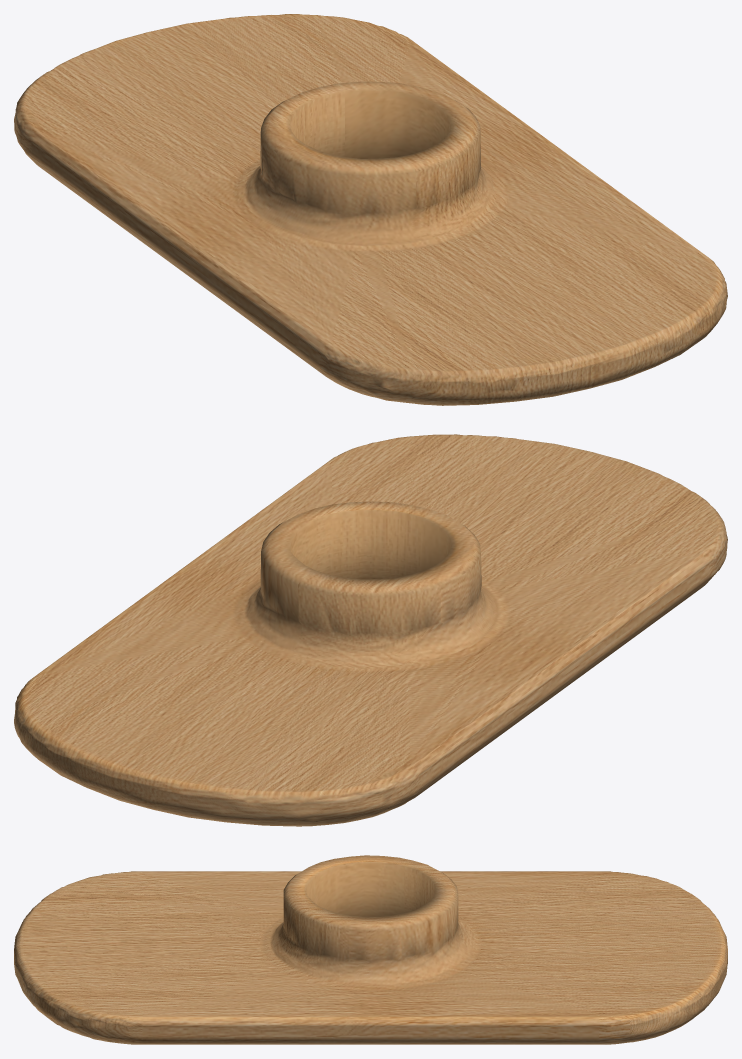
The model's file is wooden_stand.glb.
3 renders of one model, top to bottom at view 1: azimuth 30°, elevation 25°; view 2: azimuth 150°, elevation 25°; view 3: azimuth 270°, elevation 25°, orthographic. The views are drawn at different scales.
Visible parts, largest first — view 1: tripo_node_16930d79-235a-4300-9e32-a311d871c2ca; view 2: tripo_node_16930d79-235a-4300-9e32-a311d871c2ca; view 3: tripo_node_16930d79-235a-4300-9e32-a311d871c2ca.
Boxes of the visible parts, bbox=[...] form: tripo_node_16930d79-235a-4300-9e32-a311d871c2ca: bbox=[14, 14, 727, 405]; tripo_node_16930d79-235a-4300-9e32-a311d871c2ca: bbox=[14, 434, 727, 826]; tripo_node_16930d79-235a-4300-9e32-a311d871c2ca: bbox=[14, 855, 727, 1044].
Size of the model in its own units: 0.5 by 0.1387 by 0.998.
1 material, 1 textured.
